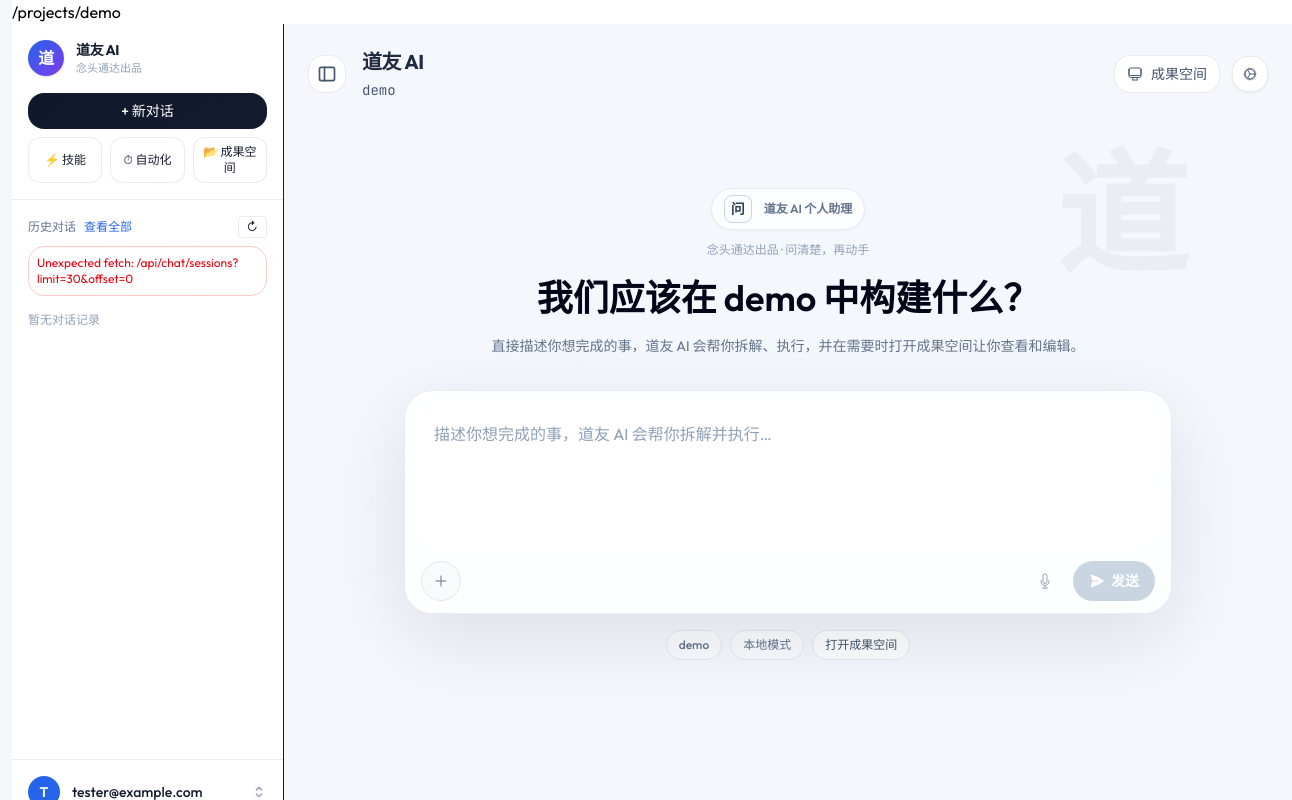
Test: ChatPage workbench dock › continues with a queued follow-up after pausing the current task
The width and height of the screenshot is (1292, 800).
Step 1. Type "先跑一个可以暂停的任务" into the text box → x=788, y=475, box [417, 403, 1159, 547]
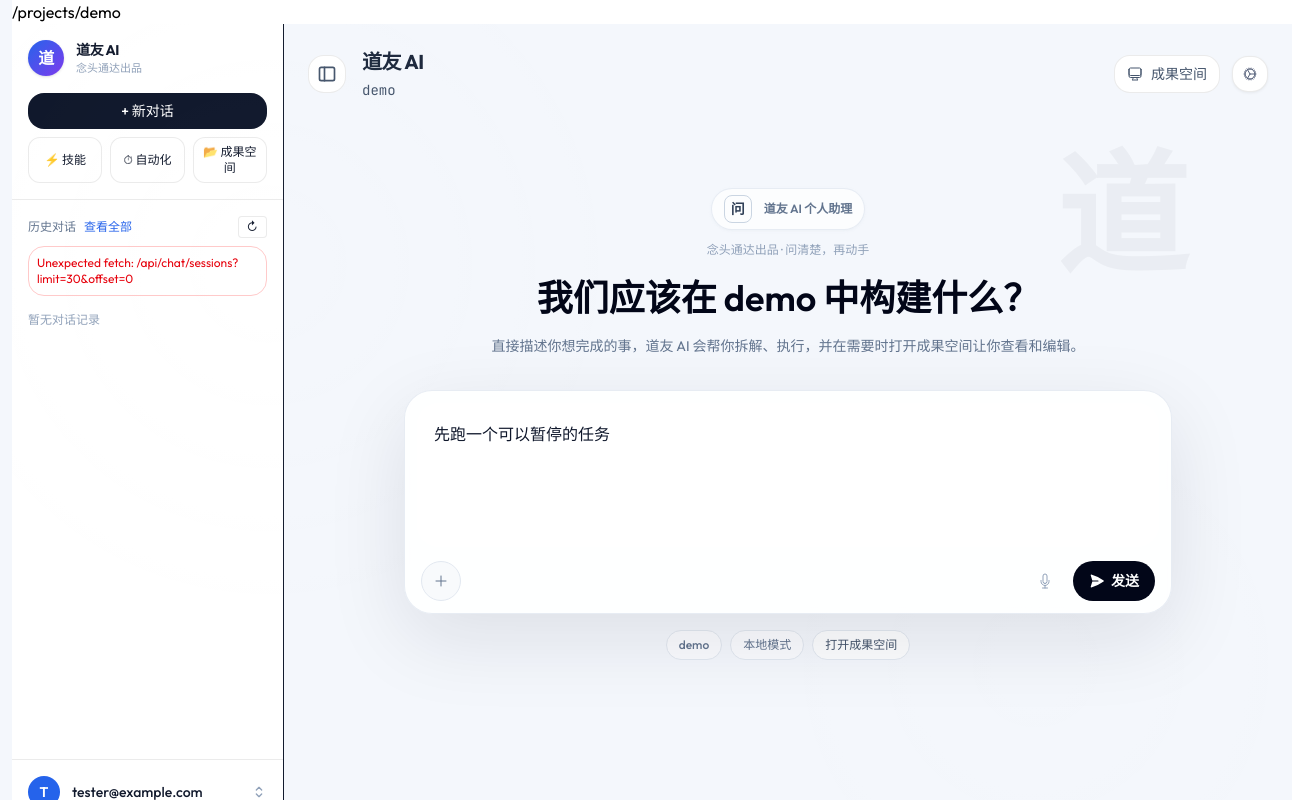
Step 2. Click the button "发送" → x=1114, y=581, box [1073, 561, 1155, 601]
(page scrolled)
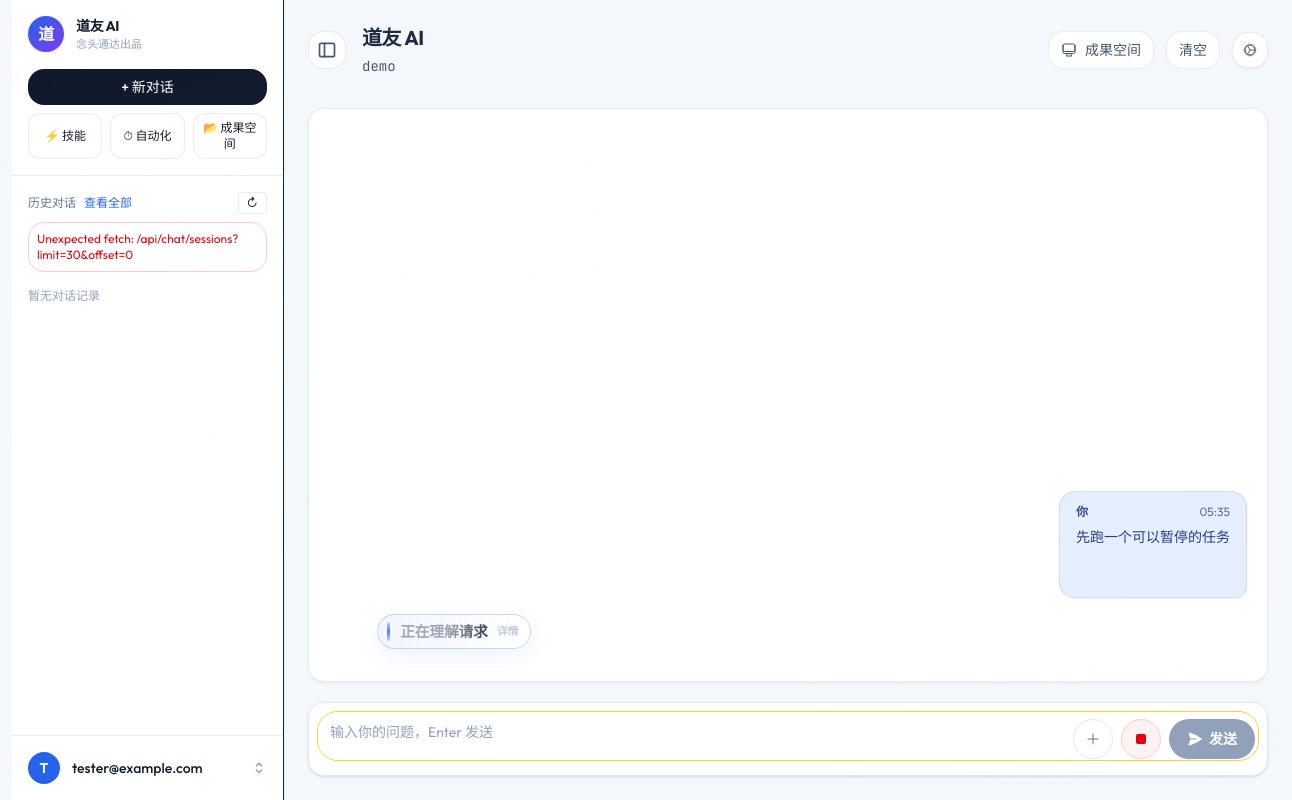
Step 3. Type "暂停后继续做这个" into the text box → x=788, y=736, box [317, 711, 1259, 761]
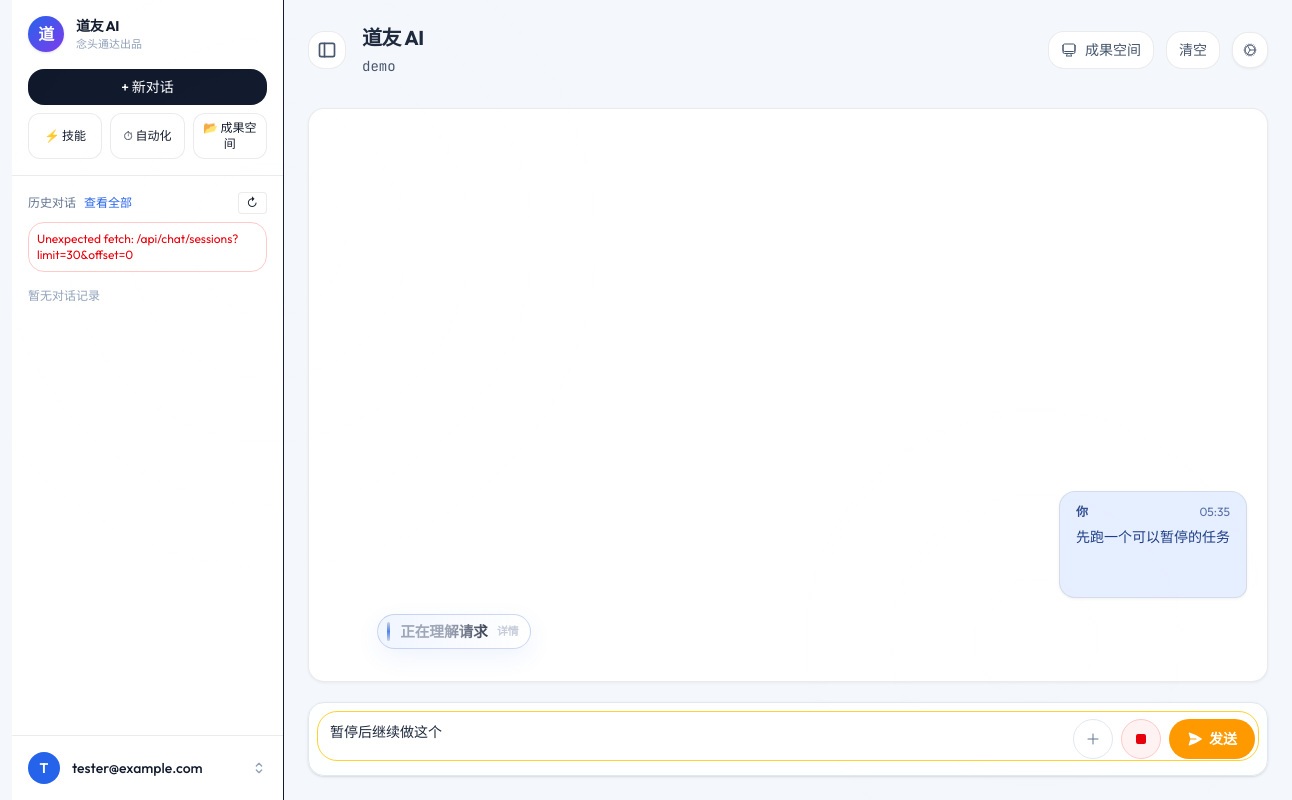
Step 4. Click the button "发送" → x=1212, y=739, box [1169, 719, 1255, 759]
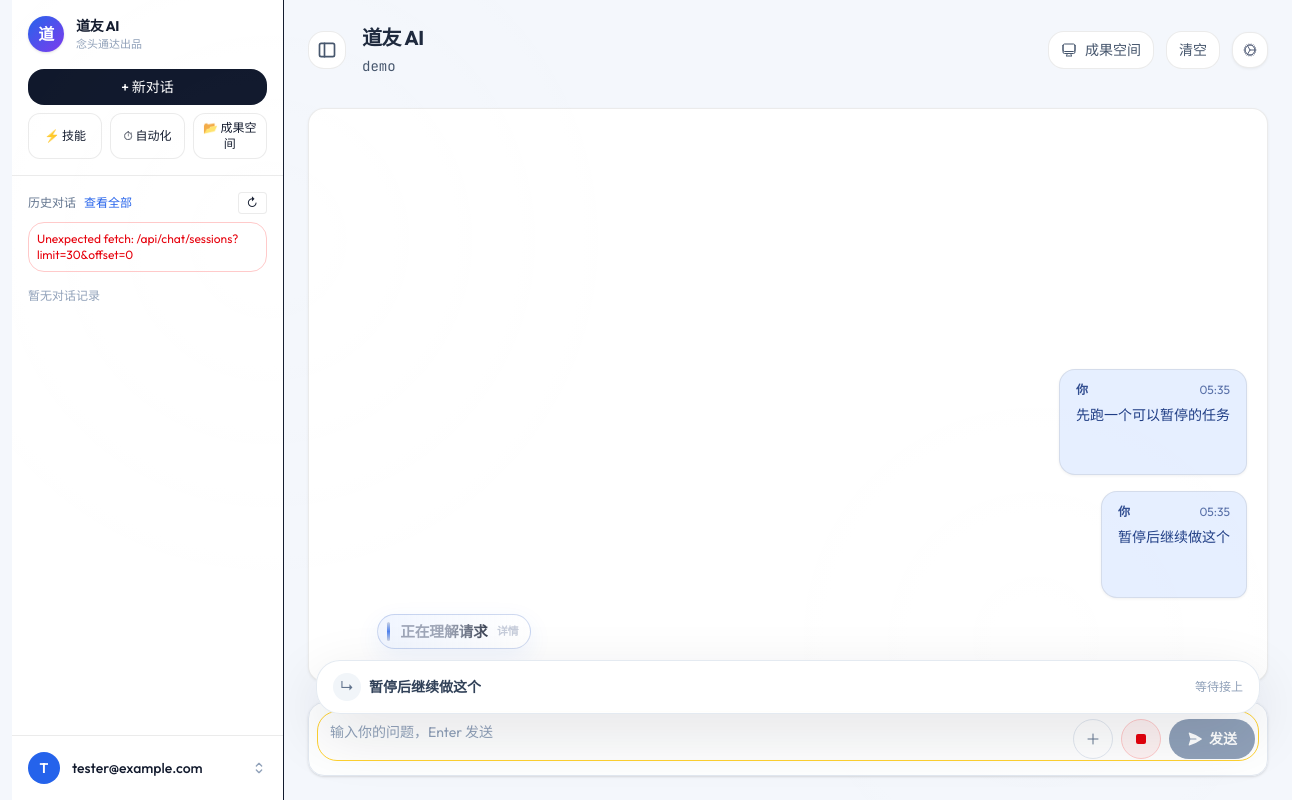
Step 5. Click the button named "暂停这次任务" → x=1141, y=739, box [1121, 719, 1161, 759]
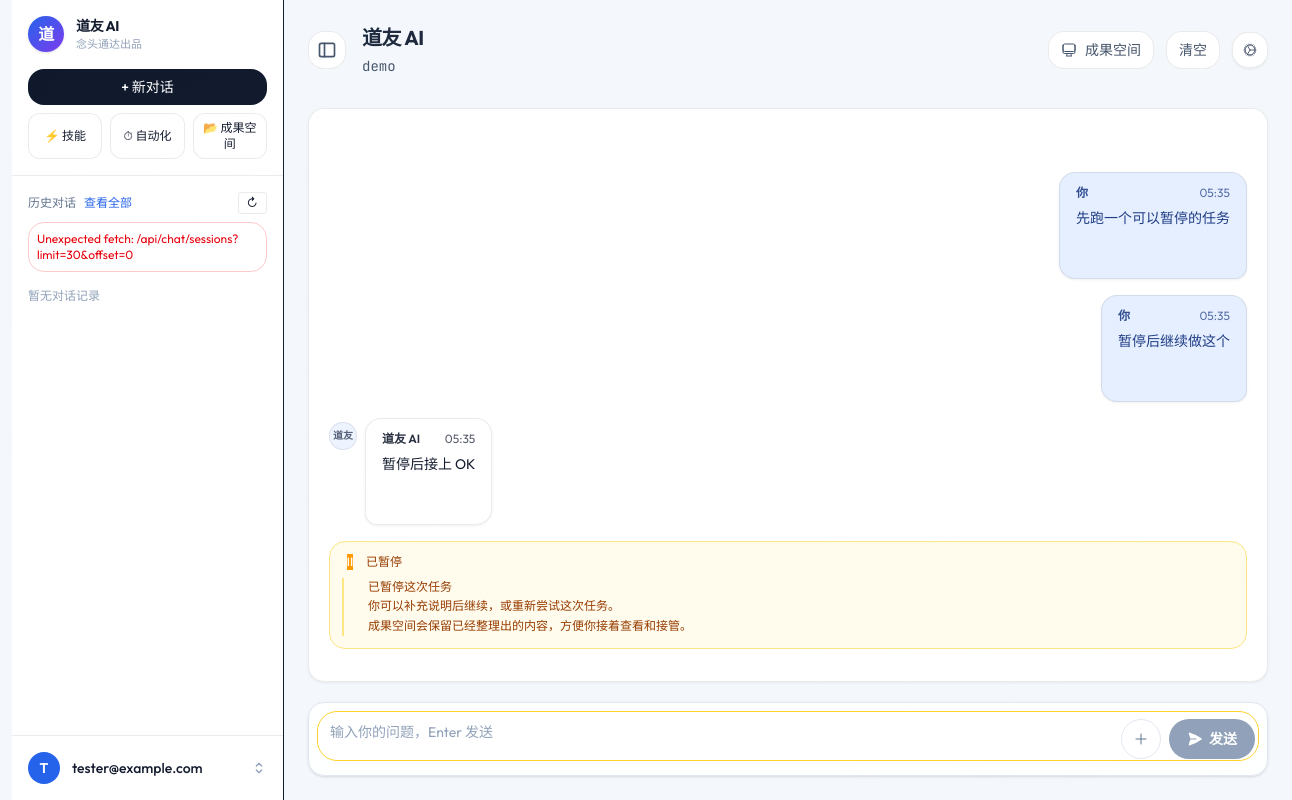
Expected: the text "暂停后接上 OK" is shown, [382, 453, 475, 476]
